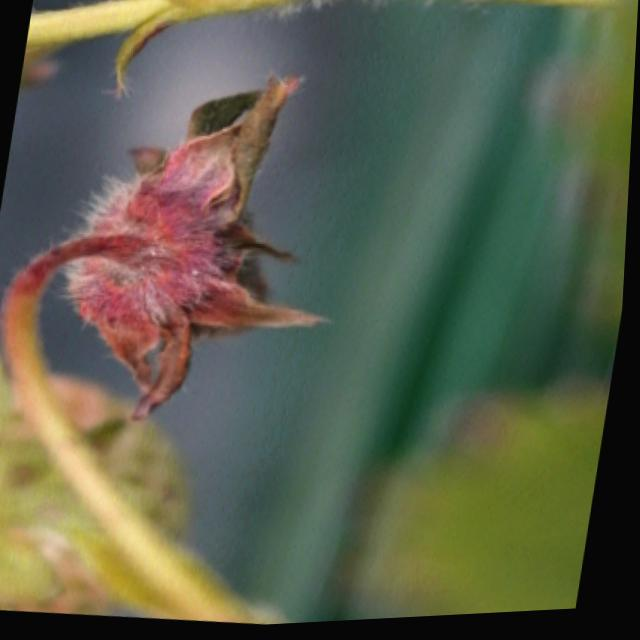Gray Mold: (22, 77, 333, 425)
